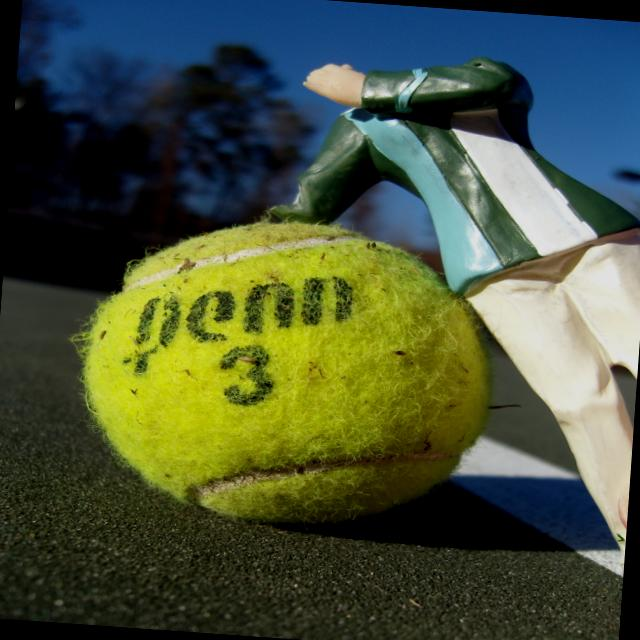Tennis Ball: (68, 206, 499, 538)
